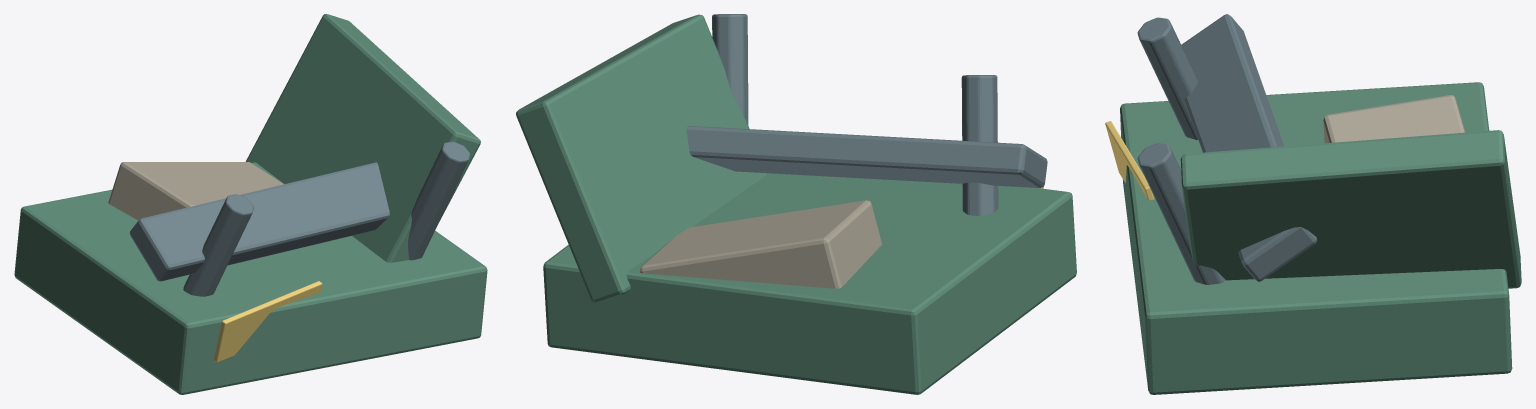
File: secure_case_d3.glb
3 views of the same model, side by side, from view 1: azimuth 30°, elevation 25°; view 2: azimuth 150°, elevation 25°; view 3: azimuth 270°, elevation 25° (orthographic). The views are drawn at different scales.
Visible parts, largest first — view 1: Crushed crate base.003, Bent side panel.003, Collapsed lid.003, Spilled contents.003, Bent original corner post.007, Bent original corner post.006, Detached cargo placard.003; view 2: Crushed crate base.003, Bent side panel.003, Collapsed lid.003, Spilled contents.003, Bent original corner post.006, Bent original corner post.007; view 3: Crushed crate base.003, Bent side panel.003, Collapsed lid.003, Spilled contents.003, Bent original corner post.007, Bent original corner post.006, Detached cargo placard.003.
Part boxes in pixels (x1,y1,x2,y2): Crushed crate base.003: (14, 162, 487, 394); Bent side panel.003: (245, 14, 480, 262); Collapsed lid.003: (130, 162, 389, 281); Spilled contents.003: (108, 162, 283, 220); Bent original corner post.007: (408, 141, 469, 260); Bent original corner post.006: (183, 194, 253, 296); Detached cargo placard.003: (214, 281, 322, 362); Crushed crate base.003: (543, 173, 1076, 394); Bent side panel.003: (516, 14, 767, 302); Collapsed lid.003: (686, 126, 1047, 187); Spilled contents.003: (640, 200, 881, 288); Bent original corner post.006: (961, 75, 998, 215); Bent original corner post.007: (712, 14, 748, 124); Crushed crate base.003: (1120, 82, 1512, 394); Bent side panel.003: (1180, 130, 1521, 288); Collapsed lid.003: (1181, 14, 1317, 281); Spilled contents.003: (1323, 95, 1465, 143); Bent original corner post.007: (1137, 143, 1225, 284); Bent original corner post.006: (1137, 17, 1198, 139); Detached cargo placard.003: (1105, 121, 1154, 200).
Bounding box in the file's own units: 1.75 × 1.06 × 1.54.
